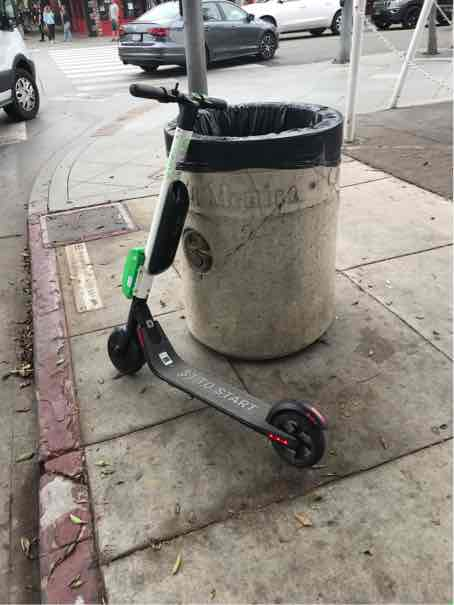scooter: (90, 81, 330, 466)
